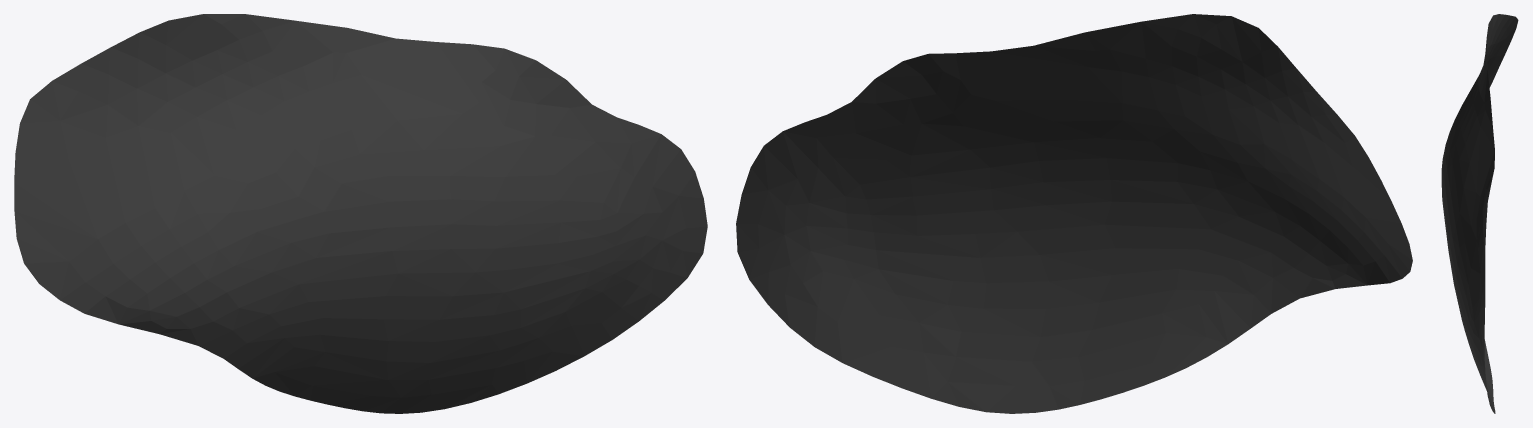
Rendered from Radius_surface_articular_carpal.glb.
3 renders of one model, left to right at view 1: azimuth 30°, elevation 25°; view 2: azimuth 150°, elevation 25°; view 3: azimuth 270°, elevation 25°, orthographic. The views are drawn at different scales.
Parts seen in each view (by area): view 1: Radius_surface_articular_carpal; view 2: Radius_surface_articular_carpal; view 3: Radius_surface_articular_carpal.
Part boxes in pixels (<box>): Radius_surface_articular_carpal: <box>14,14,707,413</box>; Radius_surface_articular_carpal: <box>736,14,1412,413</box>; Radius_surface_articular_carpal: <box>1441,14,1518,413</box>.
Bounding box in the file's own units: 0.2162 × 0.138 × 0.0342.
1 material, 1 textured.
